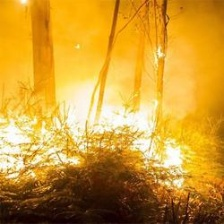fire: (1, 74, 200, 191)
